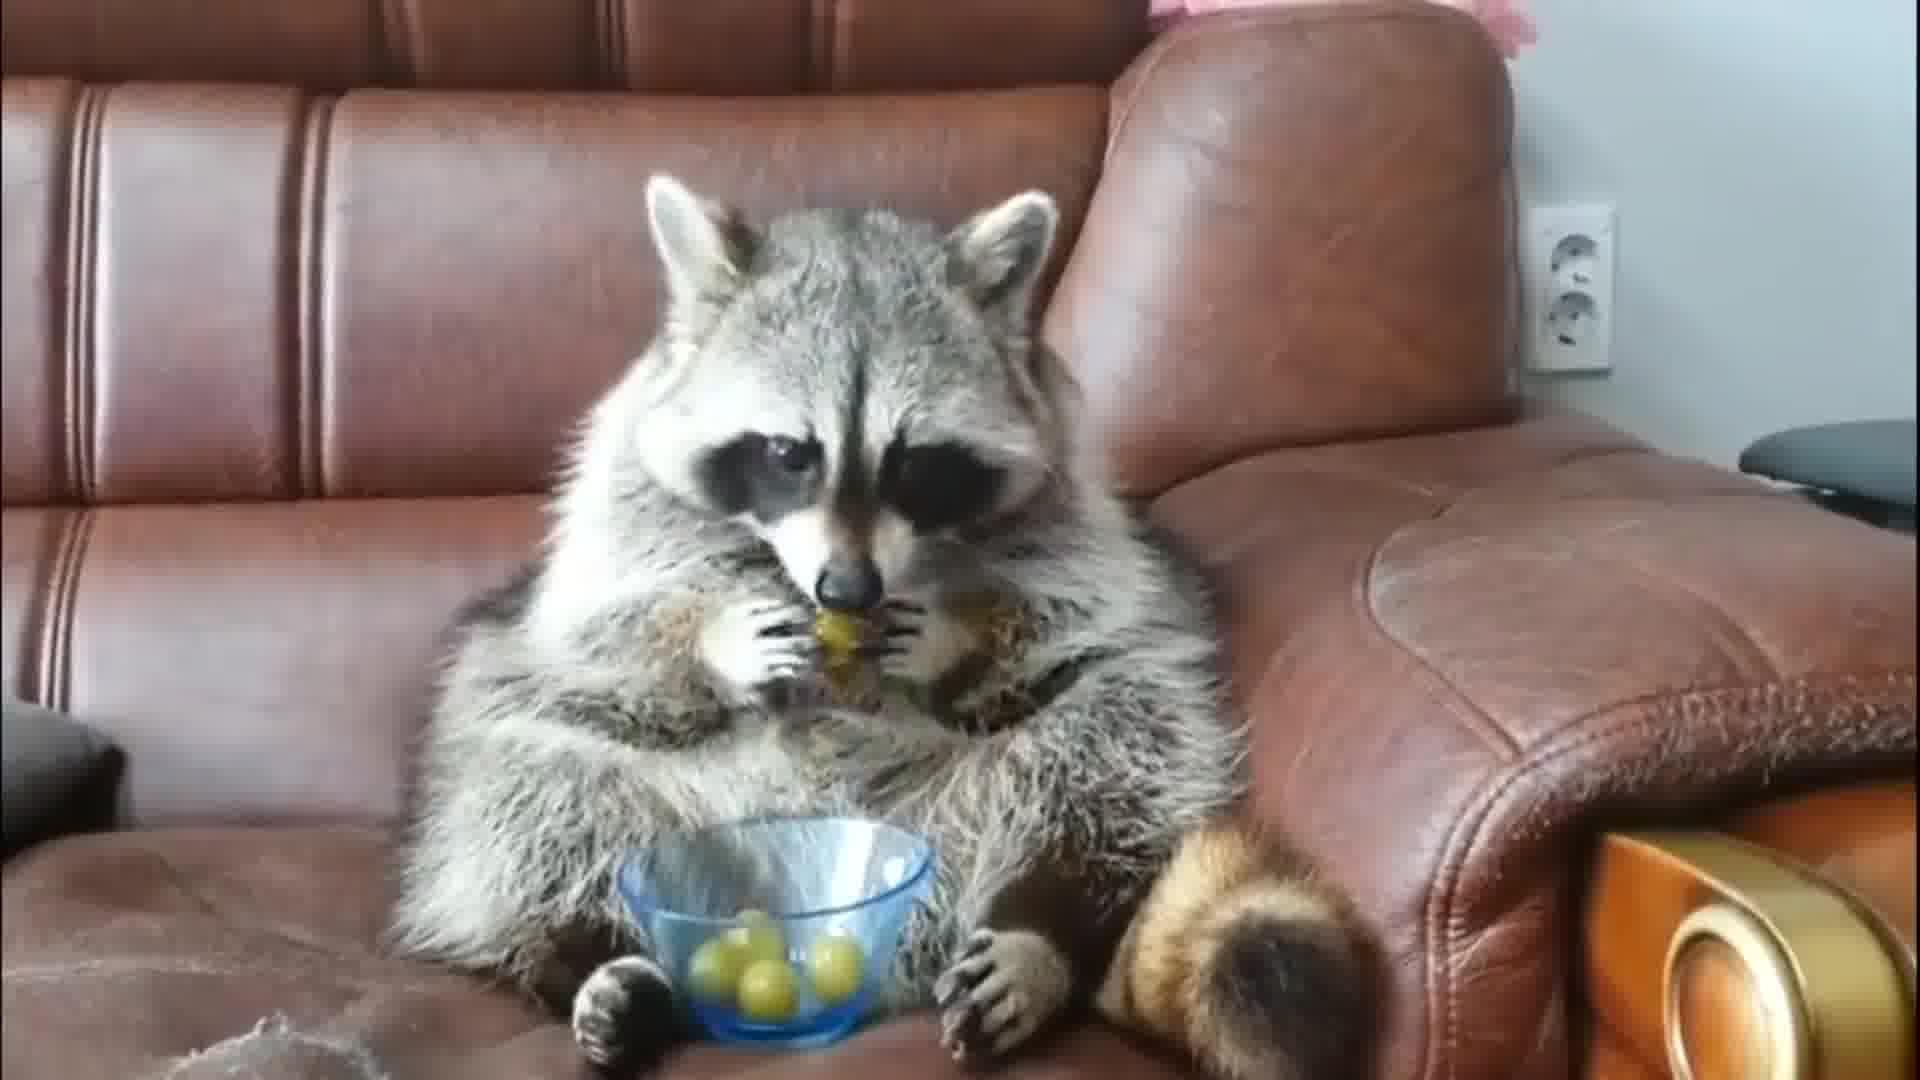raccoon: (387, 170, 1381, 1080)
